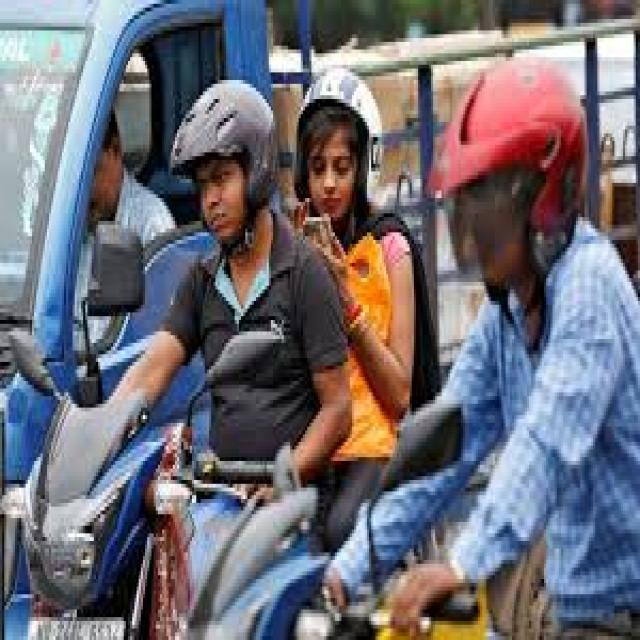helmet: (420, 42, 606, 301), (162, 61, 282, 236), (294, 61, 399, 232)
